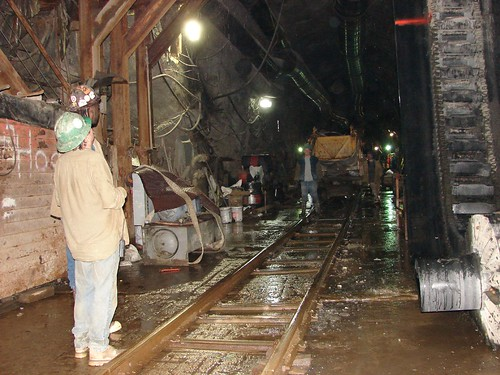person hardhat: (53, 115, 136, 366), (68, 84, 131, 330), (297, 143, 327, 225), (357, 148, 382, 205)
